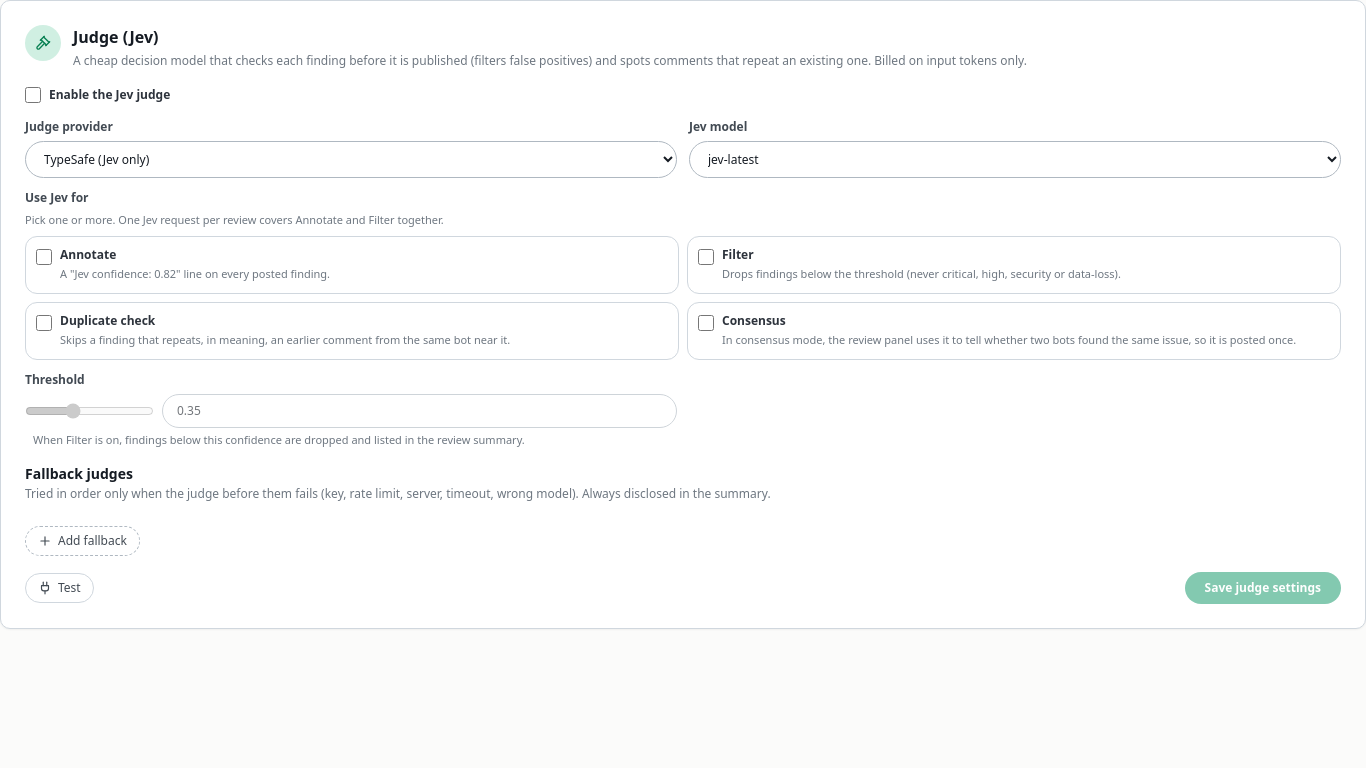
Test case: JudgeCard (Jev) › pre-selects Annotate + Duplicate check when Enable is switched on with no uses
The width and height of the screenshot is (1366, 768).
Click the checkbox labelled "Enable the Jev judge". click: (33, 94)
box: [25, 86, 41, 102]
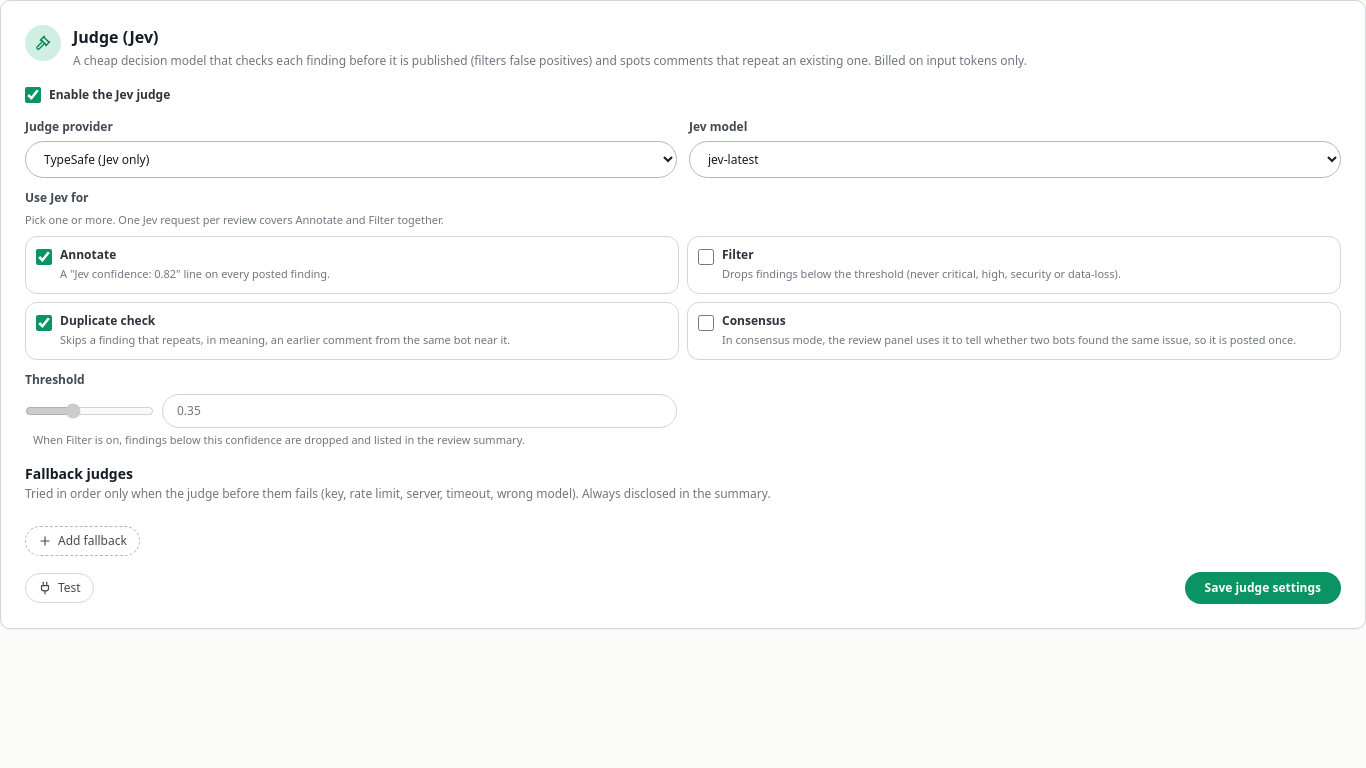
Check: the checkbox labelled "Filter" is not checked, box [698, 249, 714, 265]
Check: the checkbox labelled "Annotate" is checked, box [36, 249, 52, 265]
Check: the checkbox labelled "Duplicate check" is checked, box [36, 315, 52, 331]
